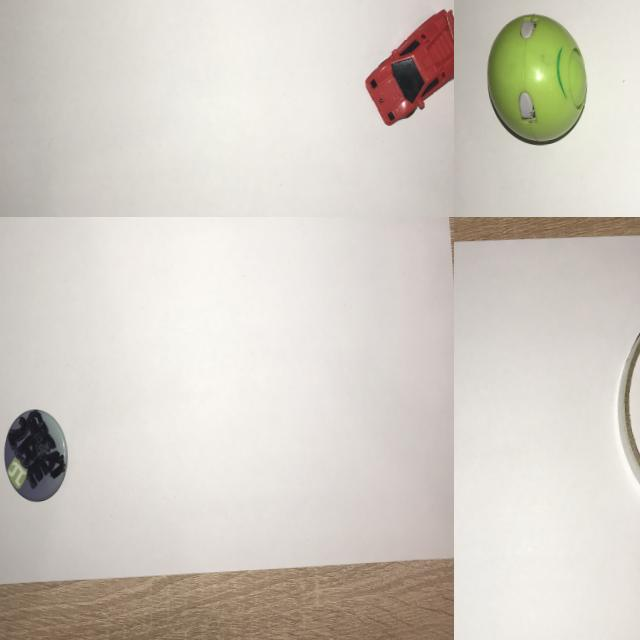car: (355, 0, 454, 134)
icon: (0, 396, 75, 512)
scotch: (600, 279, 640, 533)
toy: (479, 2, 596, 155)
